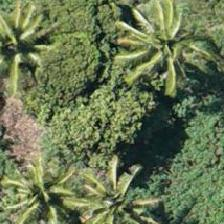coconut_tree: (112, 2, 202, 92), (0, 147, 88, 223), (66, 168, 156, 223)
